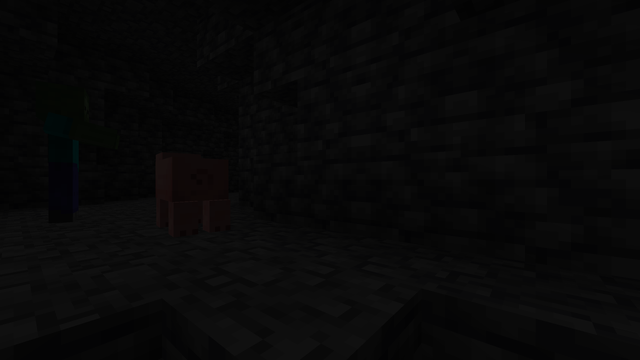cochons: (139, 153, 239, 236)
zombies: (34, 82, 94, 225)
